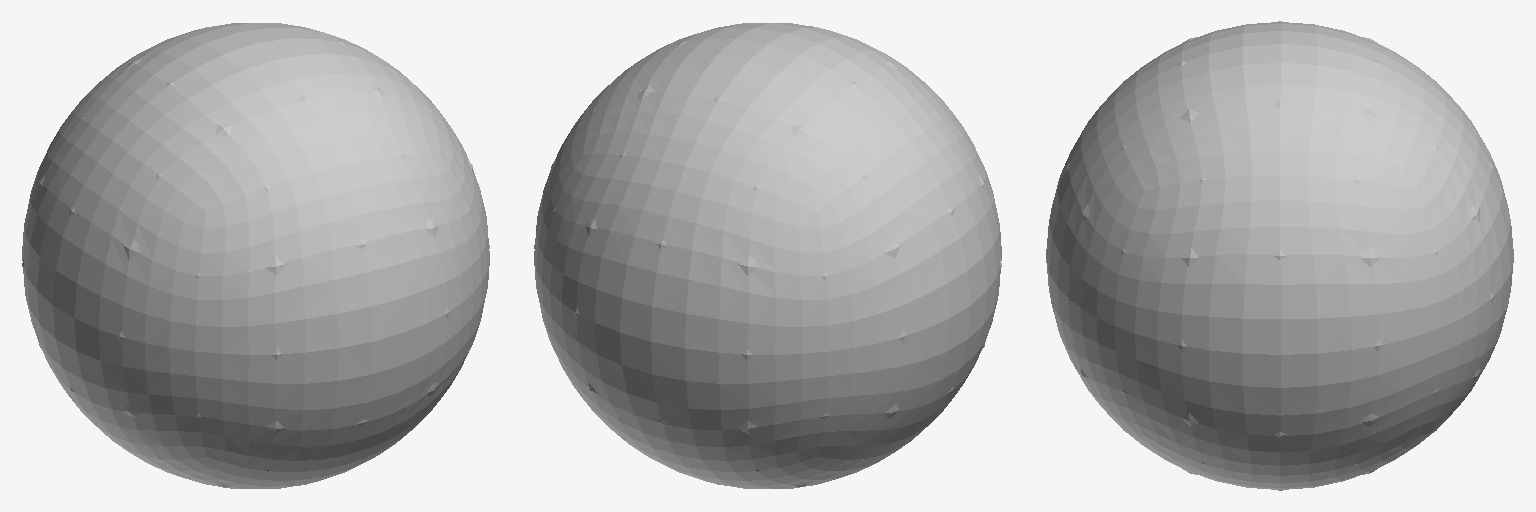
File: Sun.obj
3 renders of one model, left to right at view 1: azimuth 30°, elevation 25°; view 2: azimuth 150°, elevation 25°; view 3: azimuth 270°, elevation 25°, orthographic.
Visible parts, largest first — view 1: Sun_LOD1__0_Mesh, Sun_LOD3__0_Mesh; view 2: Sun_LOD1__0_Mesh, Sun_LOD3__0_Mesh; view 3: Sun_LOD1__0_Mesh, Sun_LOD3__0_Mesh.
Boxes of the visible parts, x1=… form: Sun_LOD1__0_Mesh: x1=22, y1=23, x2=489, y2=488; Sun_LOD3__0_Mesh: x1=22, y1=26, x2=489, y2=487; Sun_LOD1__0_Mesh: x1=534, y1=23, x2=1001, y2=488; Sun_LOD3__0_Mesh: x1=534, y1=24, x2=1001, y2=487; Sun_LOD1__0_Mesh: x1=1046, y1=22, x2=1513, y2=489; Sun_LOD3__0_Mesh: x1=1066, y1=21, x2=1493, y2=490.
Bounding box in the file's own units: 44.21 × 44.21 × 44.21.